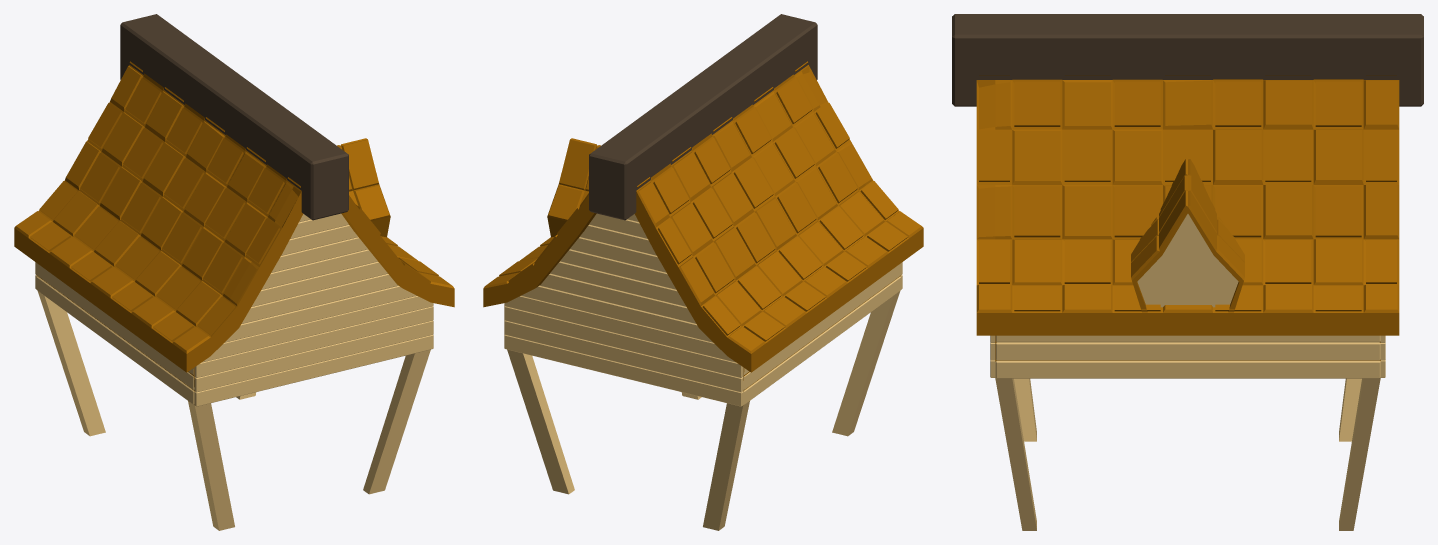
Rendered from kulube.fbx.
3 renders of one model, left to right at view 1: azimuth 30°, elevation 25°; view 2: azimuth 150°, elevation 25°; view 3: azimuth 270°, elevation 25°, orthographic. The views are drawn at different scales.
Parts seen in each view (by area): view 1: Depo; view 2: Depo; view 3: Depo.
Part boxes in pixels (left/top/right/bottom): Depo: left=14, top=14, right=454, bottom=530; Depo: left=483, top=14, right=923, bottom=530; Depo: left=952, top=14, right=1423, bottom=530.
Size of the model in its own units: 7.86 by 10.47 by 9.79.
